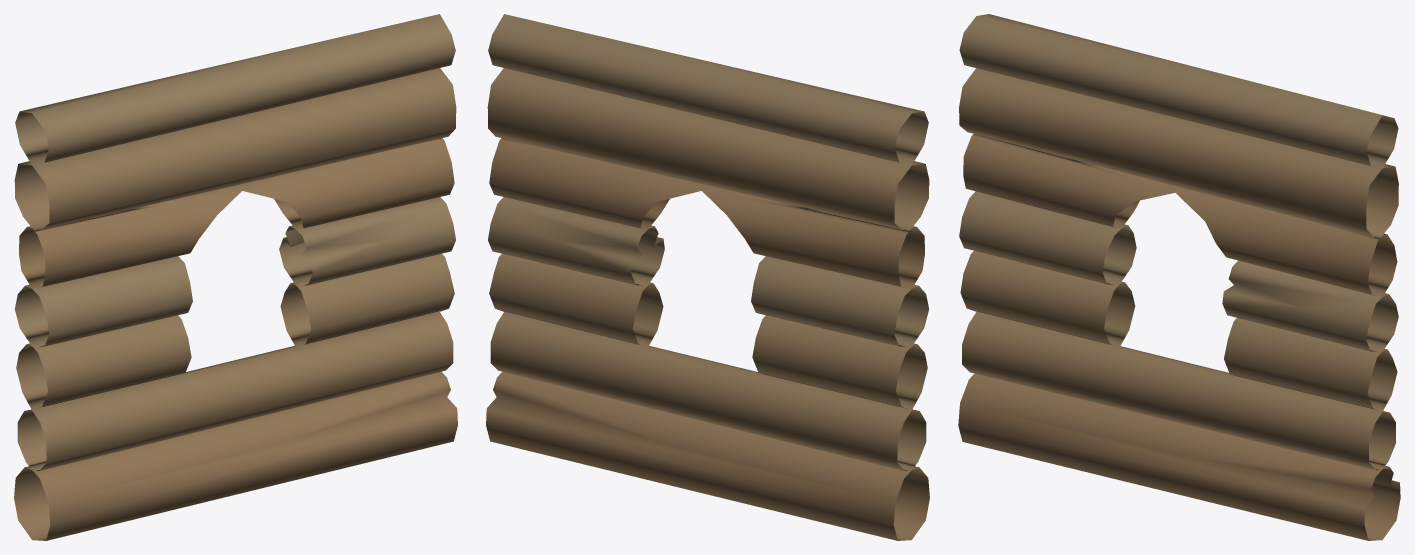
Rendered from rpgpp_ag_wall_01_3x3_window_c.fbx.
The picture shows the model from 3 angles, left to right: view 1: azimuth 30°, elevation 25°; view 2: azimuth 150°, elevation 25°; view 3: azimuth 330°, elevation 25°; orthographic projection.
Visible parts, largest first — view 1: rpgpp_ag_wall_01_3x3_window_c; view 2: rpgpp_ag_wall_01_3x3_window_c; view 3: rpgpp_ag_wall_01_3x3_window_c.
Part boxes in pixels (x1,y1,x2,y2): rpgpp_ag_wall_01_3x3_window_c: (14,14,457,540); rpgpp_ag_wall_01_3x3_window_c: (486,14,929,540); rpgpp_ag_wall_01_3x3_window_c: (958,14,1400,540).
Size of the model in its own units: 3 by 3 by 0.4626.
